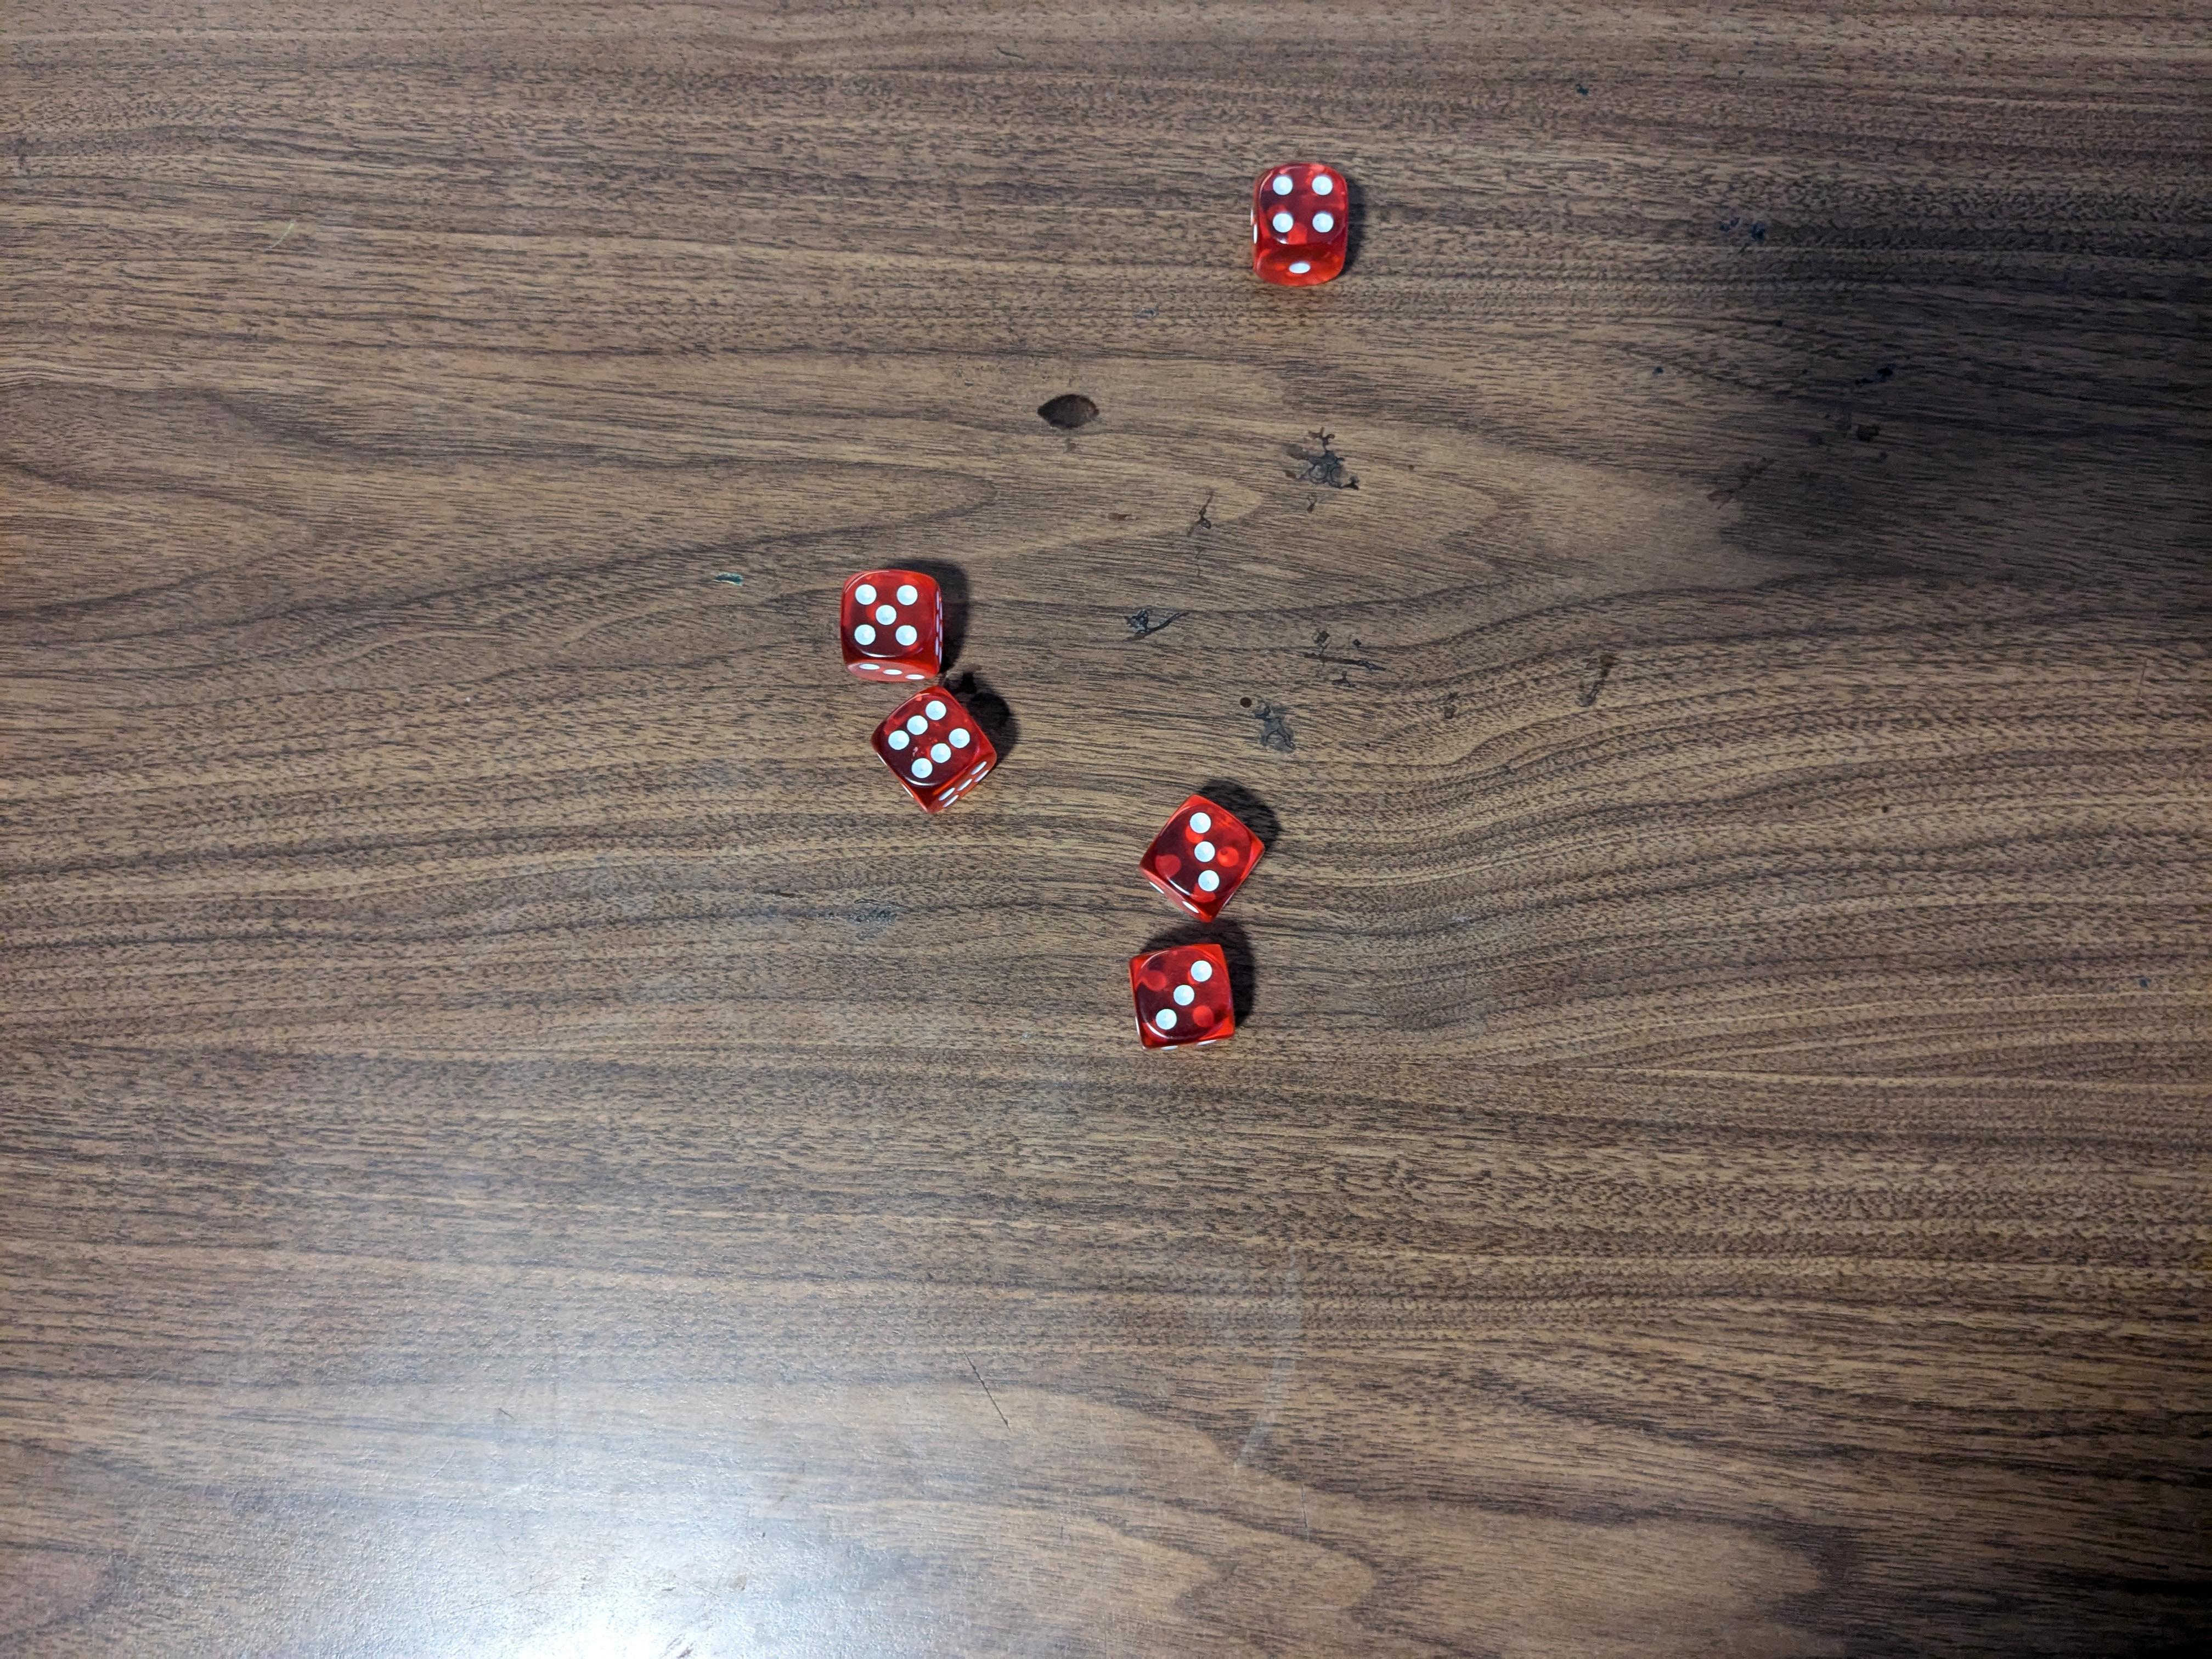five: (833, 568, 956, 687)
four: (1247, 155, 1355, 291)
six: (869, 690, 998, 817)
three: (1137, 788, 1266, 925), (1120, 936, 1244, 1056)
